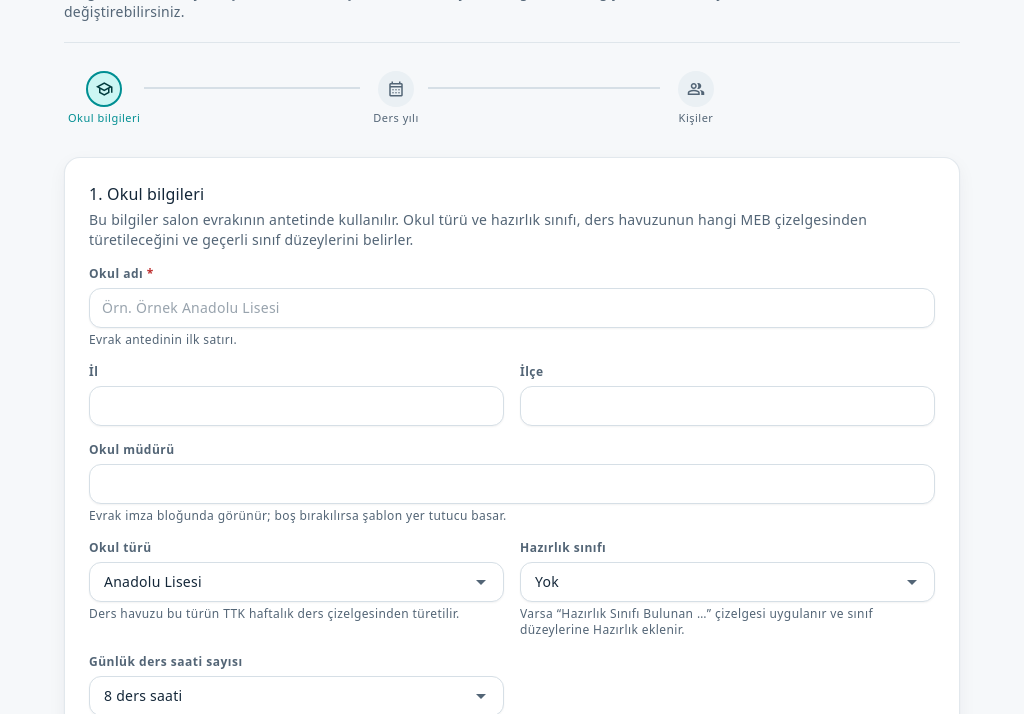
Test case: KurulumPage › kayıt hatasında Türkçe hata bandı + alan hatası gösterilir
Expected: the text "1. Okul bilgileri" is shown, [89,183,204,205]
Type "X" into the field labelled "Okul adı *" at [512, 308], box [102,298,922,318]
(page scrolled)
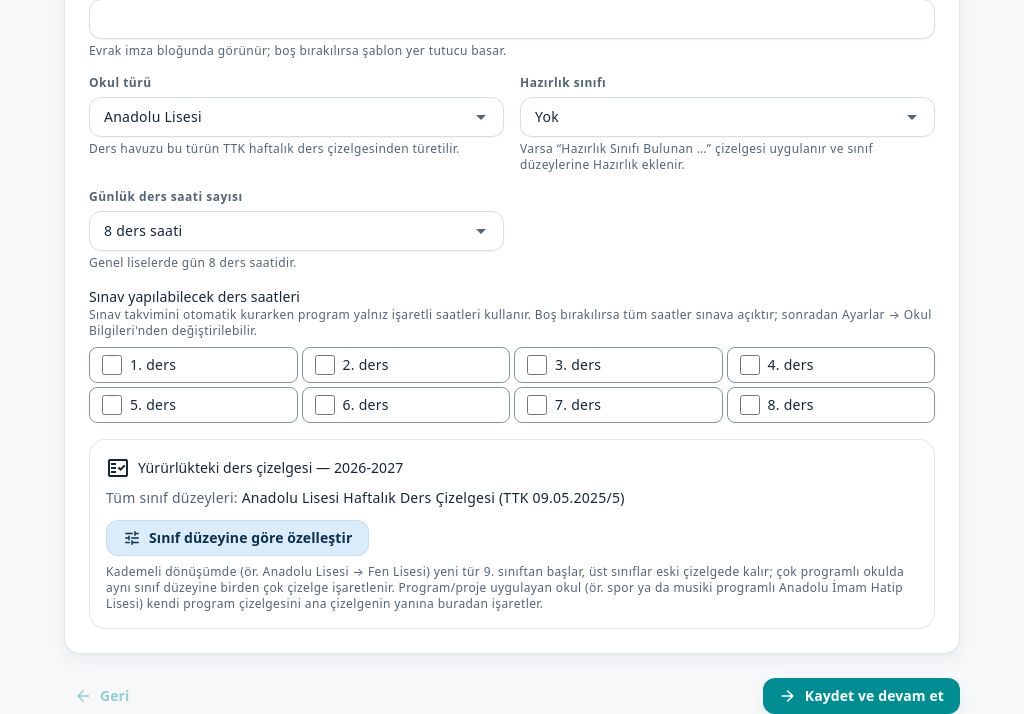
Click the button "Kaydet ve devam et" at [861, 696], box [763,678,960,713]
(page scrolled)
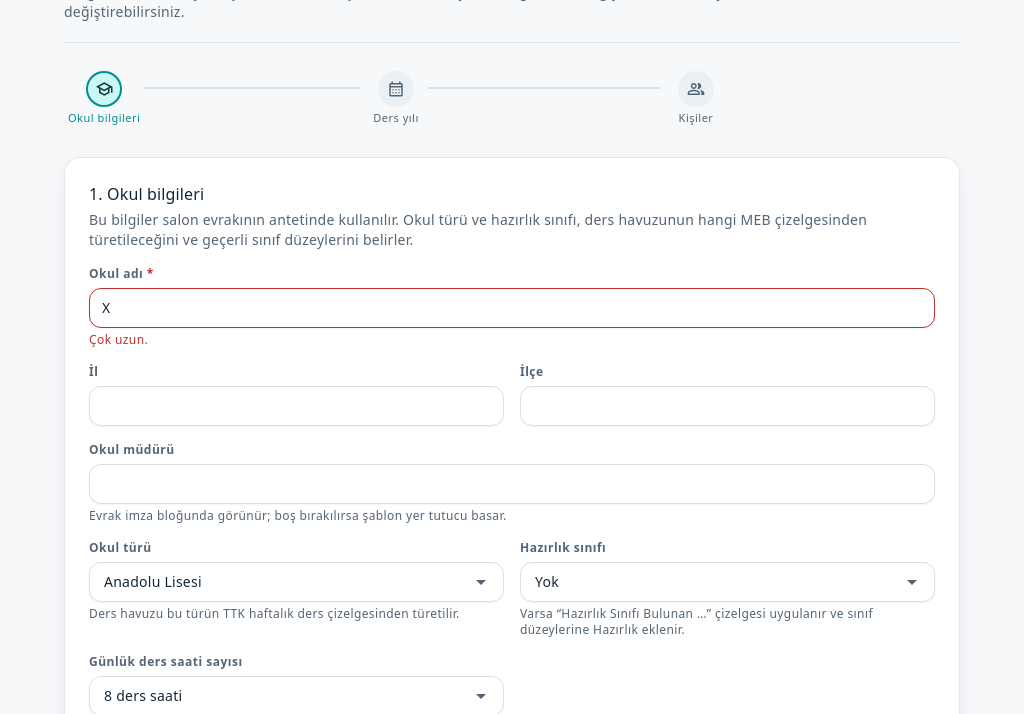
Expected: the text "1. Okul bilgileri" is shown, [89,183,204,205]
Expected: the text "Çok uzun." is shown, [89,331,148,348]
